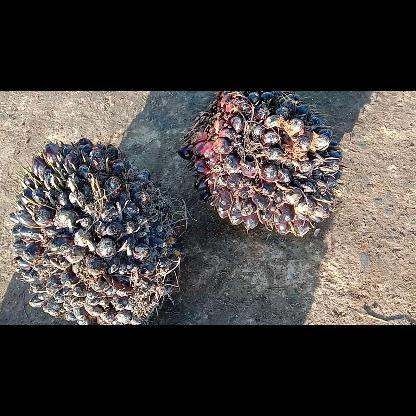TBS mentah: (9, 132, 185, 324), (174, 90, 346, 240)
